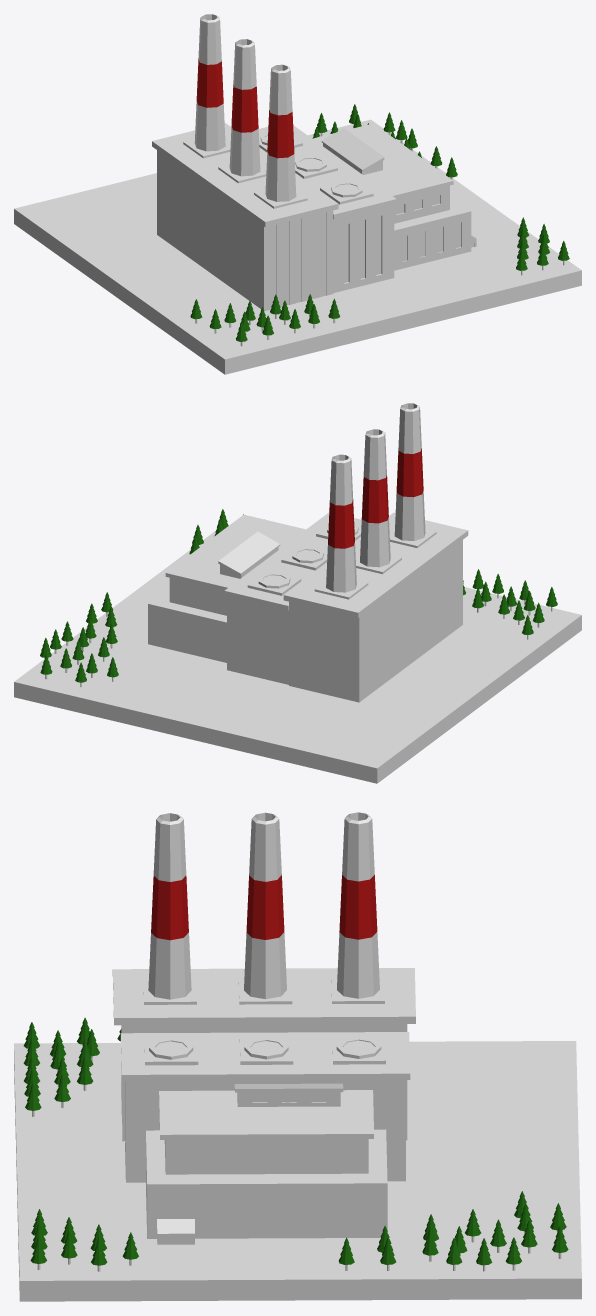
Rendered from factory02.fbx.
The picture shows the model from 3 angles, top to bottom: view 1: azimuth 30°, elevation 25°; view 2: azimuth 150°, elevation 25°; view 3: azimuth 270°, elevation 25°; orthographic projection. The views are drawn at different scales.
Parts seen in each view (by area): view 1: Cube.001, Cube; view 2: Cube.001, Cube; view 3: Cube.001, Cube.
Part boxes in pixels (bbox=[...]): Cube.001: bbox=[152, 14, 476, 311]; Cube: bbox=[14, 119, 581, 374]; Cube.001: bbox=[148, 403, 468, 702]; Cube: bbox=[14, 531, 581, 783]; Cube.001: bbox=[112, 812, 415, 1244]; Cube: bbox=[14, 1041, 581, 1301].
Bounding box in the file's own units: 1837 × 1148 × 1837.
